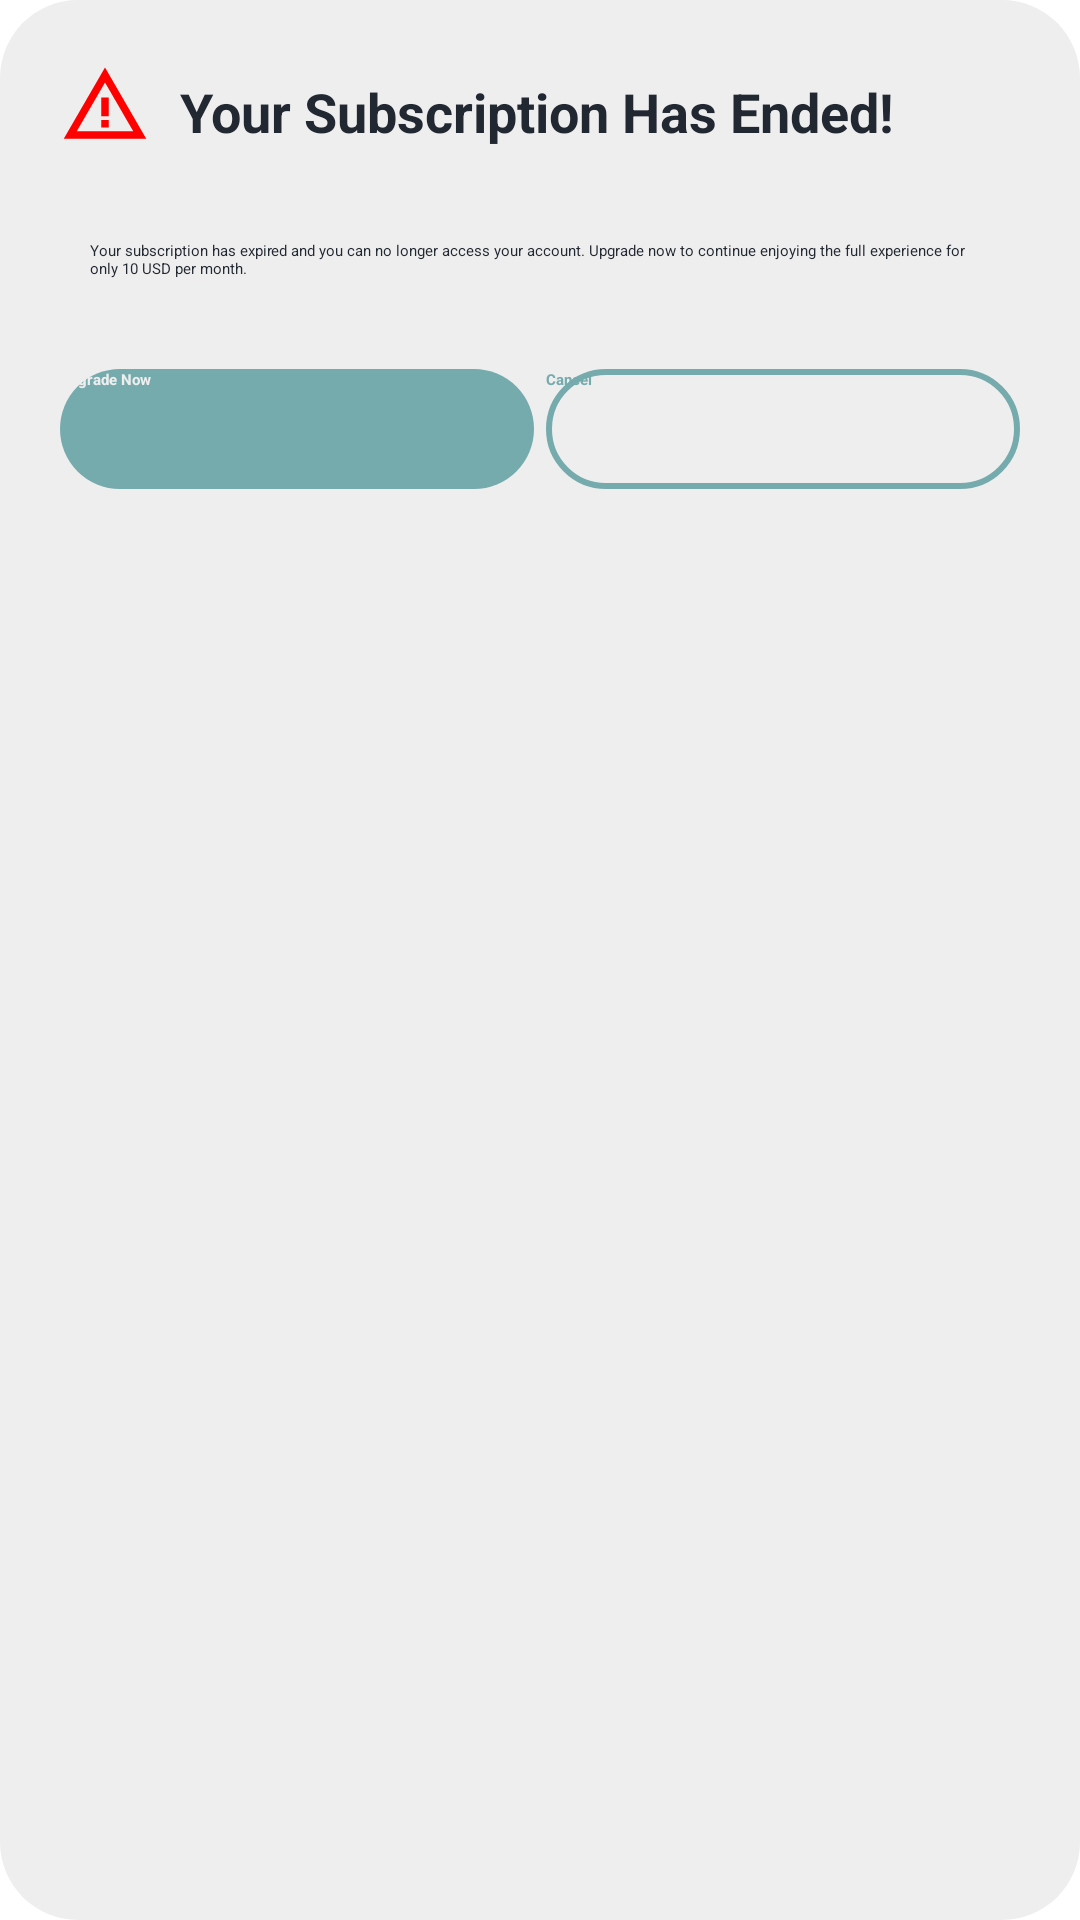

Point at icon controls on the screen. Image size 1080px x 1920px, points as [x,y].
warning amber: [105,103]
